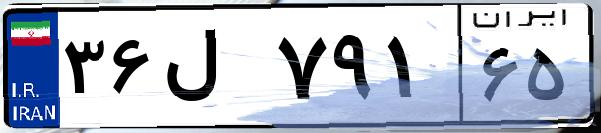1: (385, 28, 445, 110)
3: (57, 26, 110, 100)
5: (525, 38, 570, 115)
6: (475, 38, 525, 113), (110, 28, 158, 98)
7: (270, 28, 330, 110)
9: (330, 28, 385, 110)
ل: (158, 20, 270, 120)
